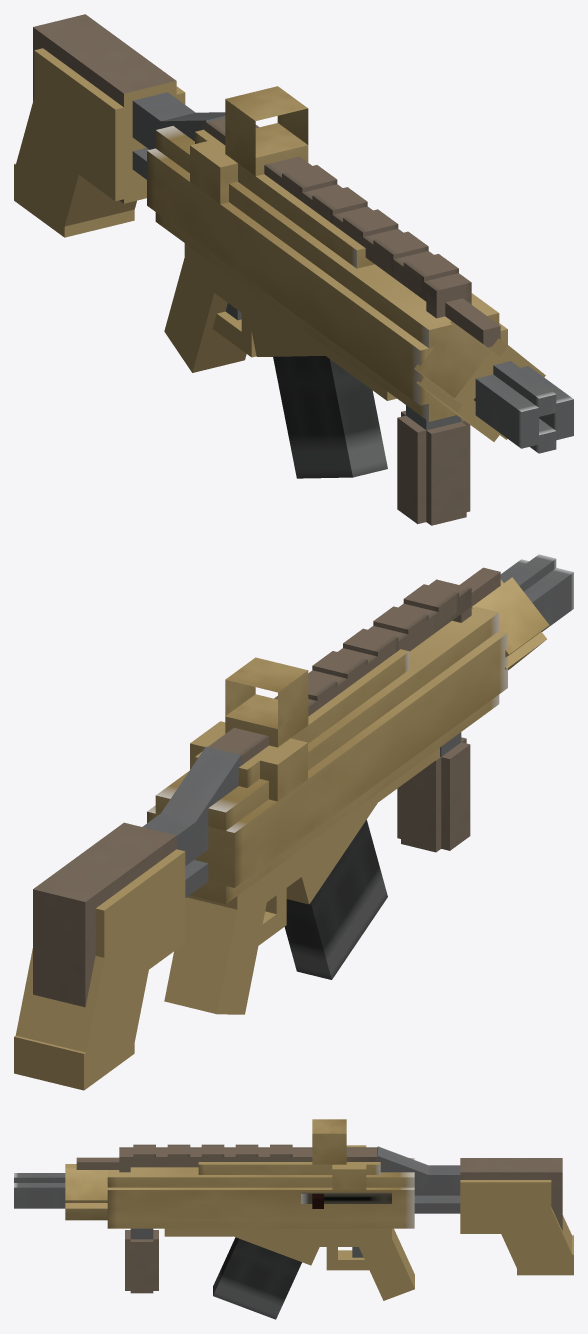
The model's file is AssaultRifle.obj.
3 views of the same model, one above another, from view 1: azimuth 30°, elevation 25°; view 2: azimuth 150°, elevation 25°; view 3: azimuth 270°, elevation 25° (orthographic). The views are drawn at different scales.
Visible parts, largest first — view 1: Element #1, Element #15, Element #8, Element #2, Element #7, Element #11, Element #10, Element #13, Element #39, Element #19, Element #3, Element #38 (+23 smaller); view 2: Element #1, Element #7, Element #13, Element #8, Element #2, Element #15, Element #11, Element #14, Element #10, Element #5, Element #3, Element #4 (+20 smaller); view 3: Element #1, Element #8, Element #15, Element #2, Element #10, Element #7, Element #4, Element #11, Element #13, Element #3, Element #16, Element #12 (+24 smaller).
Boxes of the visible parts, x1,y1,x2,y2 form: Element #1: [147, 148, 507, 405]; Element #15: [273, 356, 387, 478]; Element #8: [34, 48, 185, 201]; Element #2: [155, 126, 499, 348]; Element #7: [33, 14, 176, 203]; Element #11: [15, 97, 136, 234]; Element #10: [203, 118, 471, 308]; Element #13: [164, 251, 246, 372]; Element #39: [401, 410, 466, 525]; Element #19: [414, 321, 503, 407]; Element #3: [195, 129, 374, 268]; Element #38: [397, 415, 470, 524]; Element #1: [147, 631, 507, 887]; Element #7: [33, 822, 176, 1007]; Element #13: [164, 895, 267, 1014]; Element #8: [95, 849, 185, 1001]; Element #2: [155, 607, 499, 830]; Element #15: [284, 820, 387, 979]; Element #11: [15, 948, 150, 1055]; Element #14: [14, 1017, 134, 1090]; Element #10: [208, 579, 471, 765]; Element #5: [161, 746, 243, 851]; Element #3: [195, 649, 409, 787]; Element #4: [190, 694, 499, 904]; Element #1: [107, 1187, 414, 1220]; Element #8: [460, 1180, 551, 1233]; Element #15: [213, 1237, 301, 1319]; Element #2: [107, 1158, 414, 1187]; Element #10: [119, 1147, 380, 1167]; Element #7: [460, 1158, 562, 1230]; Element #4: [107, 1221, 414, 1228]; Element #11: [501, 1207, 572, 1274]; Element #13: [358, 1228, 414, 1300]; Element #3: [198, 1162, 380, 1174]; Element #16: [228, 1228, 319, 1265]; Element #12: [301, 1228, 391, 1246].
Size of the model in its own units: 3.23 by 9.15 by 24.62.
1 material, 1 textured.
